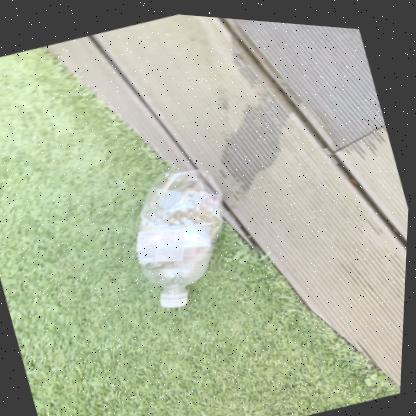Plastic: (138, 166, 224, 304)
